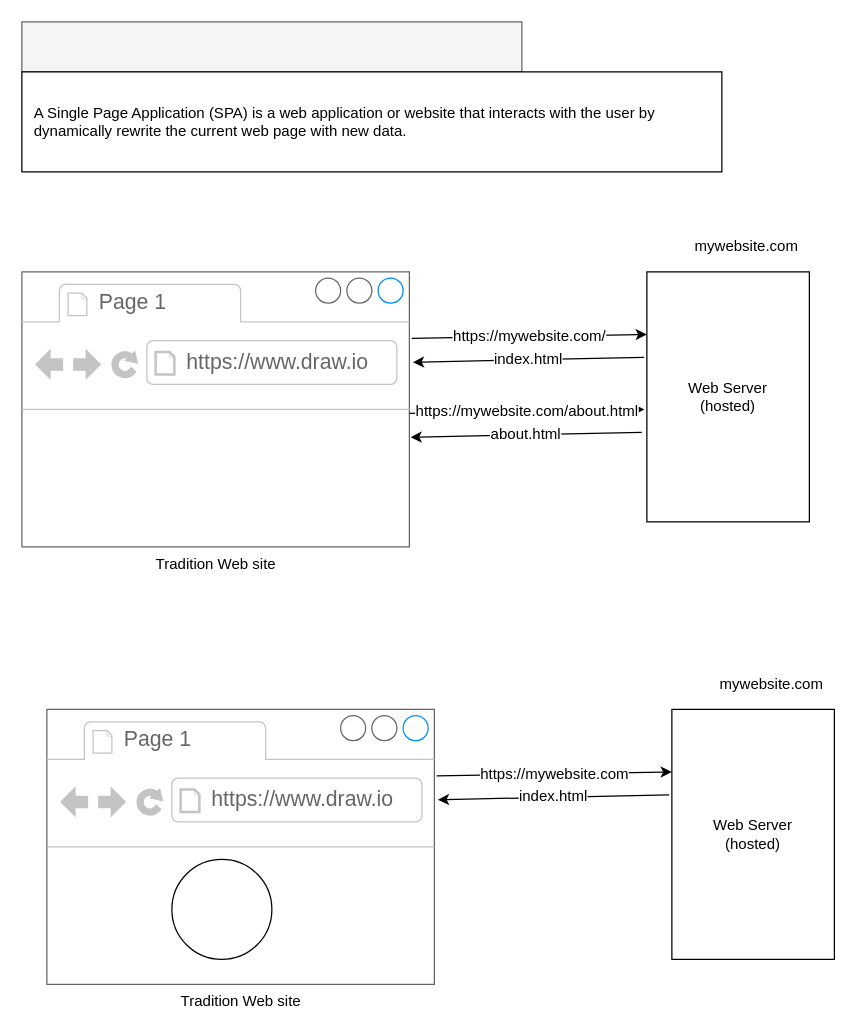
This 856x1033 diagram has some shape labels left out. Each missing label, with the centre of its shape:
"React" goes at point 221,908.
"What is Single Page Application or SPA?" goes at point 271,46.
